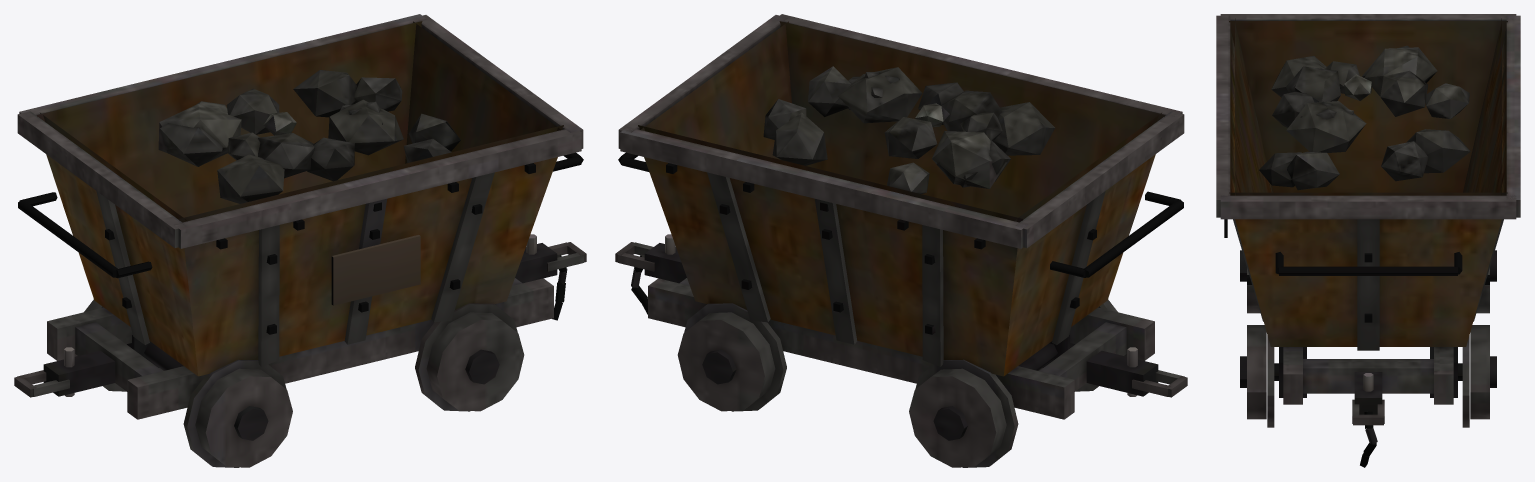
The model's file is mine_cart.glb.
3 renders of one model, left to right at view 1: azimuth 30°, elevation 25°; view 2: azimuth 150°, elevation 25°; view 3: azimuth 270°, elevation 25°, orthographic. The views are drawn at different scales.
Parts seen in each view (by area): view 1: mine_cart_mesh; view 2: mine_cart_mesh; view 3: mine_cart_mesh.
Part boxes in pixels (x1,y1,x2,y2): mine_cart_mesh: [14, 14, 586, 467]; mine_cart_mesh: [615, 14, 1187, 467]; mine_cart_mesh: [1216, 14, 1520, 467].
Bounding box in the file's own units: 2.16 × 1.12 × 1.09.
Materials: 1 (1 with a texture image).
